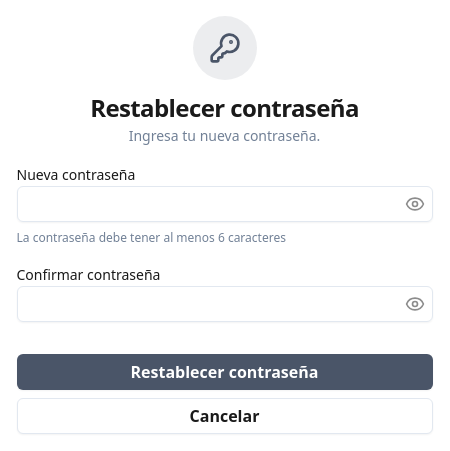
Test case: reset password link flow › updates the password and shows the confirmation screen
Type "clave-nueva-larga" into the password field labelled "Nueva contraseña".
click(224, 204); type("clave-nueva-larga")  # box top-left (16, 186), bottom-right (432, 222)
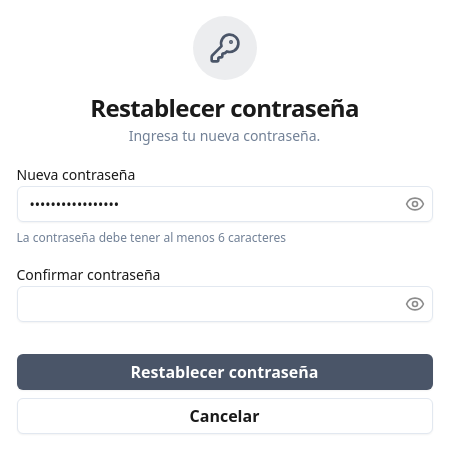
Type "clave-nueva-larga" into the password field labelled "Confirmar contraseña".
click(224, 304); type("clave-nueva-larga")  # box top-left (16, 286), bottom-right (432, 322)
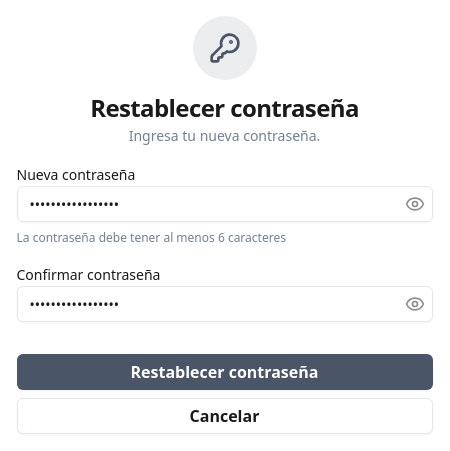
Click the button "Restablecer contraseña".
click(224, 372)  # box top-left (16, 354), bottom-right (432, 390)
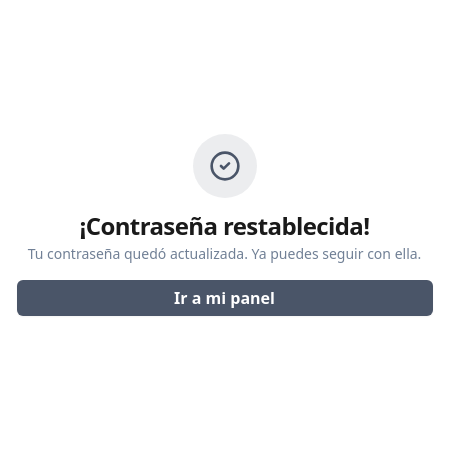
Expected: the heading "¡Contraseña restablecida!" is shown, top-left (80, 209), bottom-right (370, 242)
Expected: the text labelled "nueva contraseña" is gone
